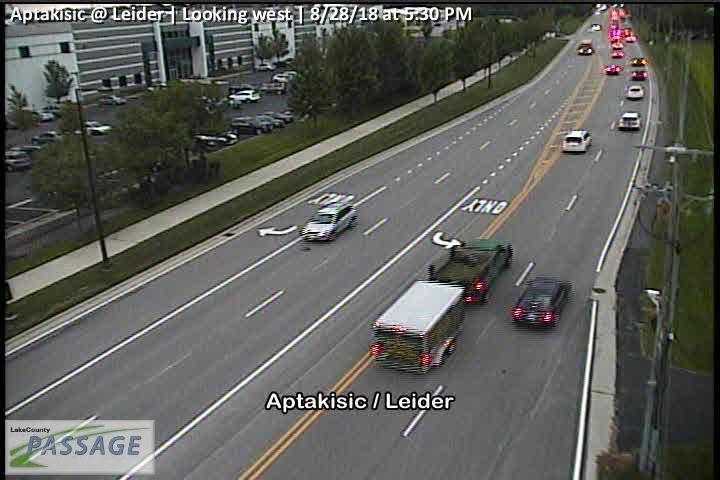SUV: (302, 202, 356, 243), (562, 130, 592, 153)
Sedan: (512, 278, 573, 328), (226, 116, 272, 132), (71, 122, 111, 135), (229, 88, 261, 101), (618, 112, 641, 129), (97, 93, 127, 105), (627, 86, 643, 98), (604, 64, 623, 73), (631, 70, 648, 80), (630, 57, 647, 65), (591, 24, 601, 31), (612, 50, 623, 56)
Truck: (369, 238, 514, 374), (577, 39, 592, 54)
